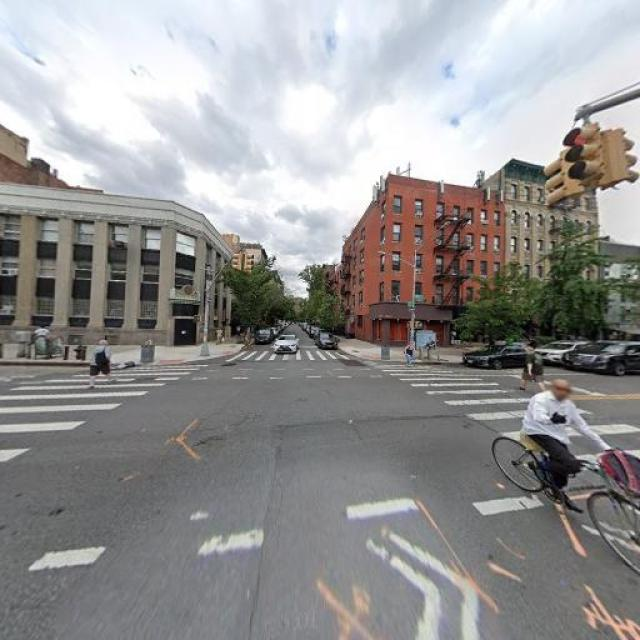Building: (1, 187, 235, 343), (343, 180, 498, 345)
